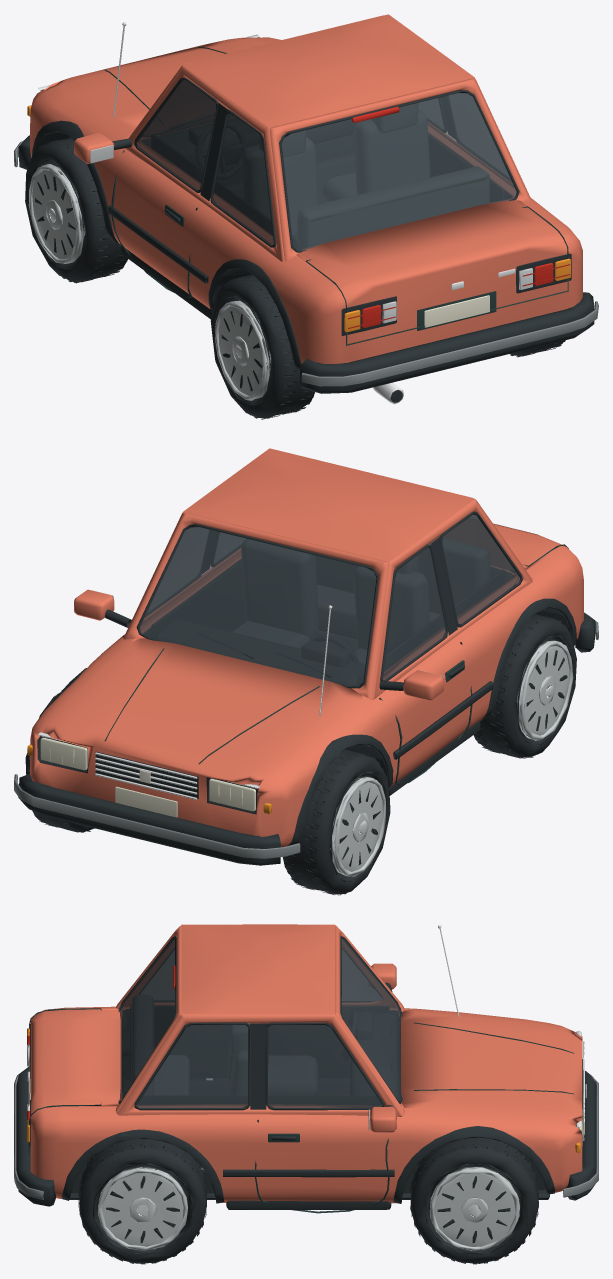
The model's file is marlow_lod2.fbx.
3 views of the same model, one above another, from view 1: azimuth 30°, elevation 25°; view 2: azimuth 150°, elevation 25°; view 3: azimuth 270°, elevation 25° (orthographic). The views are drawn at different scales.
Visible parts, largest first — view 1: Body, Wheel_RL_Mesh, Wheel_FL_Mesh; view 2: Body, Wheel_FL_Mesh, Wheel_RL_Mesh, Wheel_FR_Mesh; view 3: Body, Wheel_FR_Mesh, Wheel_RR_Mesh.
Part boxes in pixels (x1,y1,x2,y2): Body: (14, 14, 598, 404); Wheel_RL_Mesh: (210, 274, 314, 419); Wheel_FL_Mesh: (25, 137, 127, 283); Body: (14, 448, 598, 865); Wheel_FL_Mesh: (282, 749, 390, 895); Wheel_RL_Mesh: (473, 614, 576, 758); Wheel_FR_Mesh: (25, 693, 94, 832); Body: (14, 924, 598, 1213); Wheel_FR_Mesh: (410, 1137, 538, 1264); Wheel_RR_Mesh: (78, 1138, 206, 1264).
Size of the model in its own units: 231 by 165 by 365.
